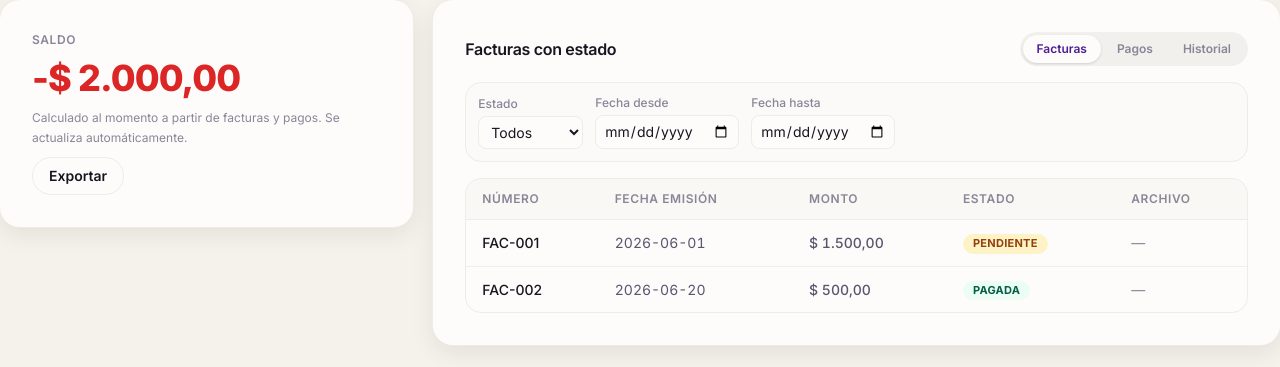
Scenario: CuentaCorrientePage › the Pagos tab renders payment entries derived from the historial array
Click the button "Pagos": point(1135, 49) [1103, 35, 1167, 63]
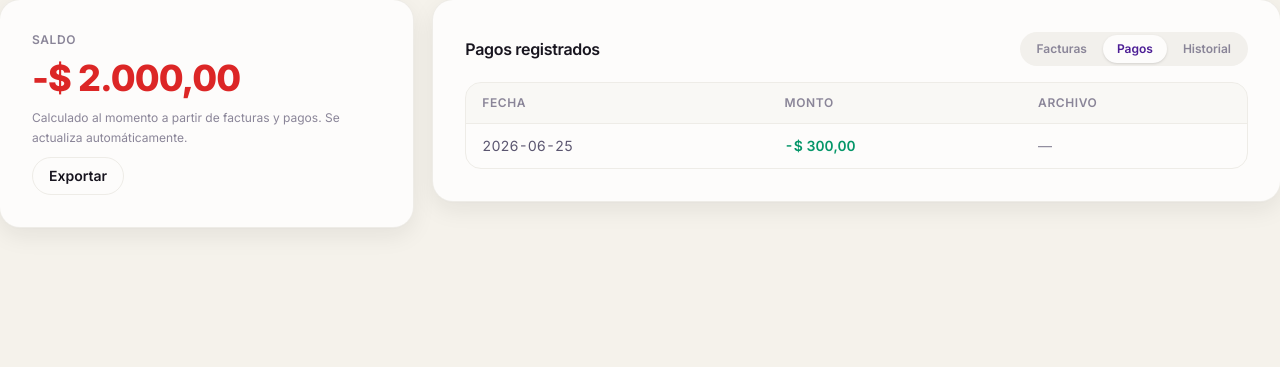
expect the row with test id "pagos-row-pago-1" is shown: met, box [466, 124, 1247, 168]
expect the row with test id "tabla-facturas-row-f-1" is gone: met
